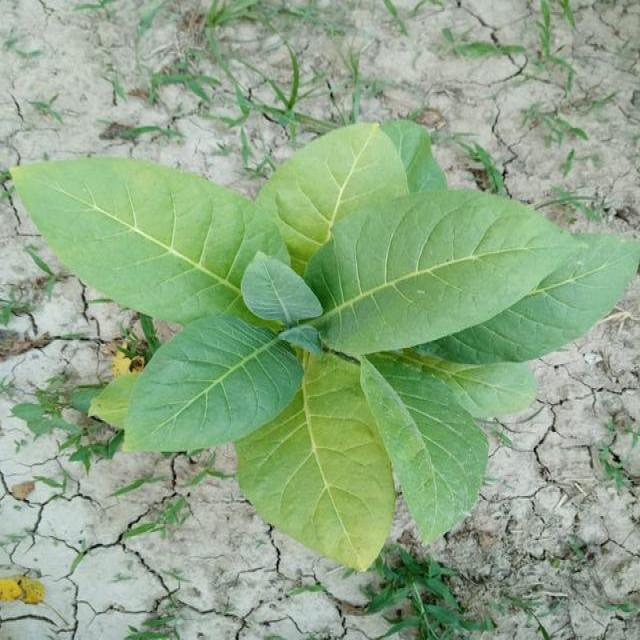crop: (16, 130, 640, 553)
